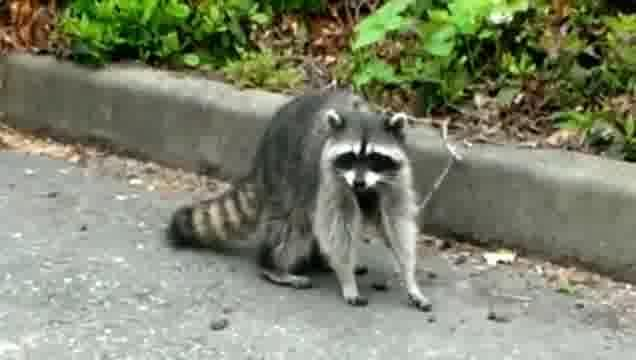raccoon: (169, 96, 433, 311)
